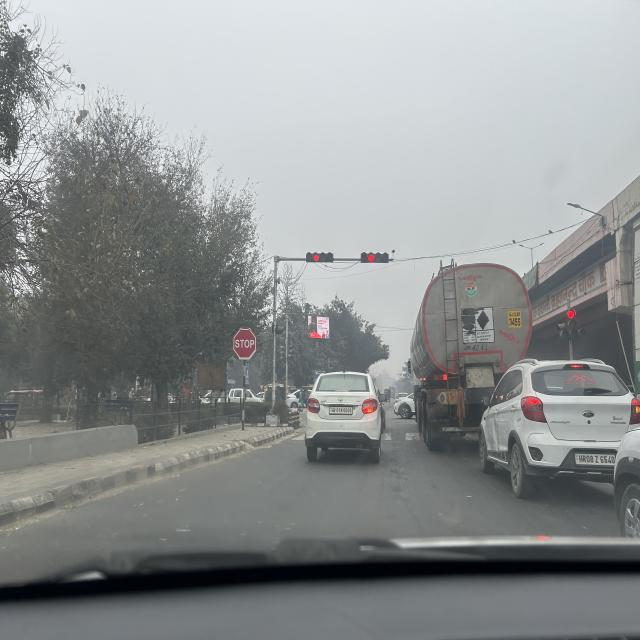STOP: (232, 327, 257, 360)
